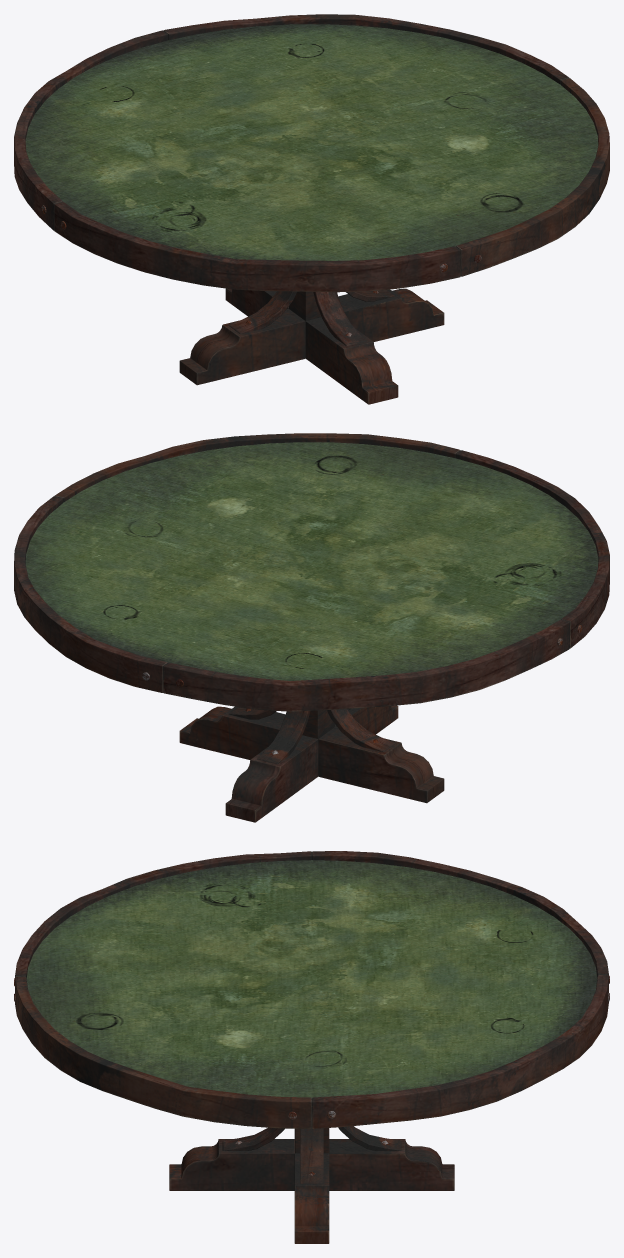
File: poker_table_small.glb
3 renders of one model, top to bottom at view 1: azimuth 30°, elevation 25°; view 2: azimuth 150°, elevation 25°; view 3: azimuth 270°, elevation 25°, orthographic.
Visible parts, largest first — view 1: Table; view 2: Table; view 3: Table.
Part boxes in pixels (box(x1,y1,x2,y2)): Table: box(14, 14, 609, 404); Table: box(14, 433, 609, 822); Table: box(14, 851, 609, 1243).
Bounding box in the file's own units: 1393 × 540 × 1393.
Materials: 1 (1 with a texture image).
